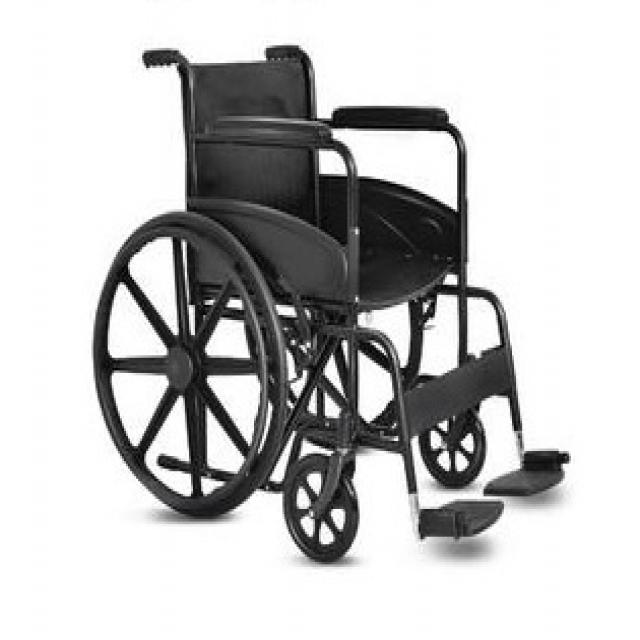wheelchair: (82, 29, 579, 567)
